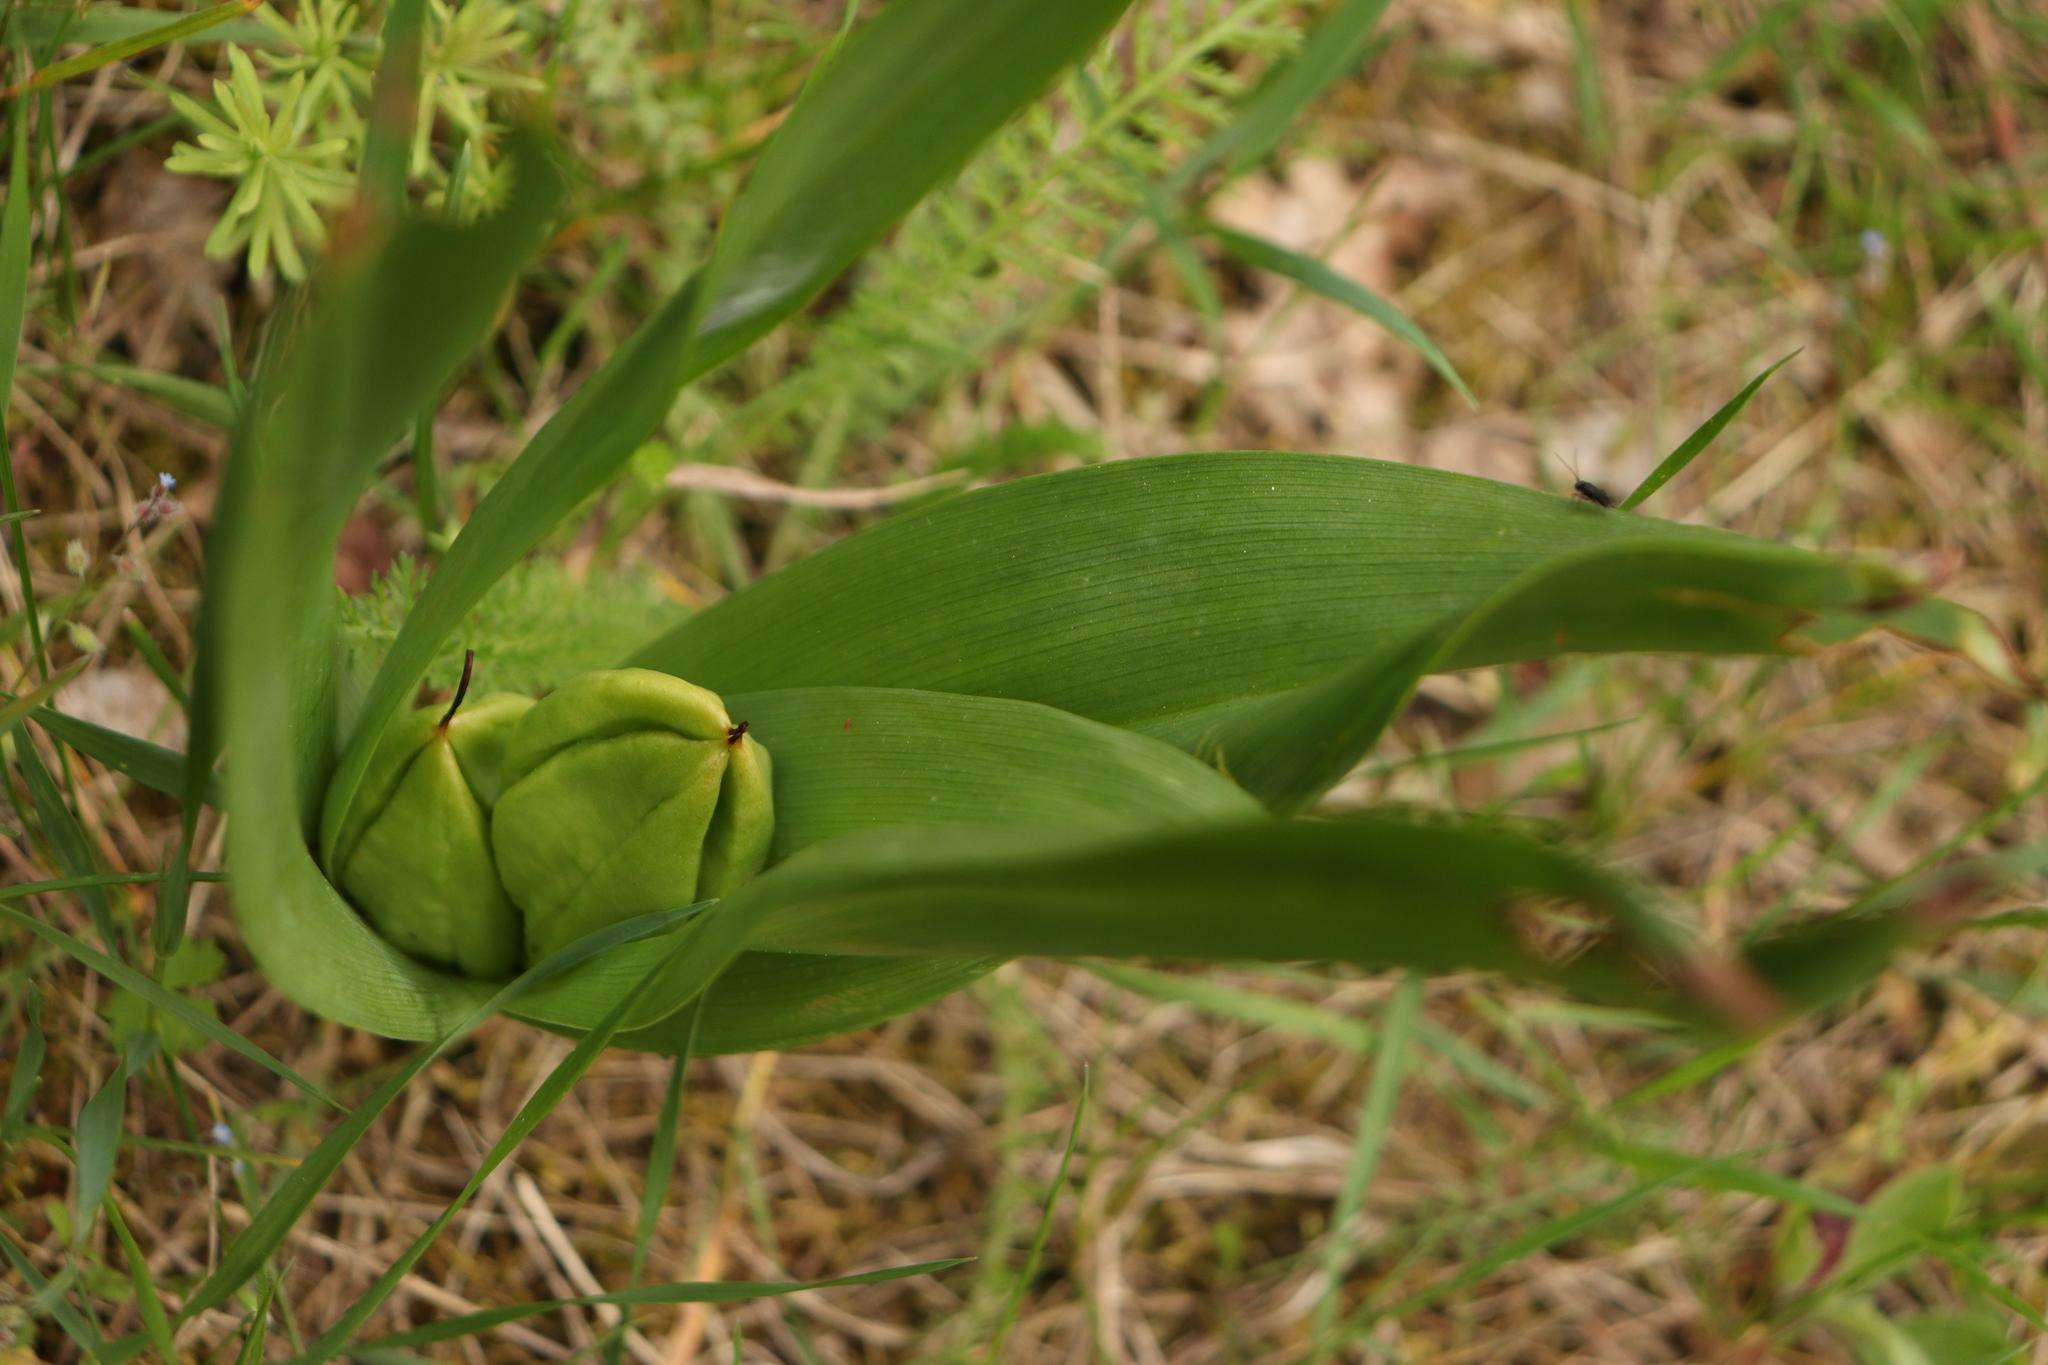Colchicum autumnale L: (209, 0, 1937, 1079)
